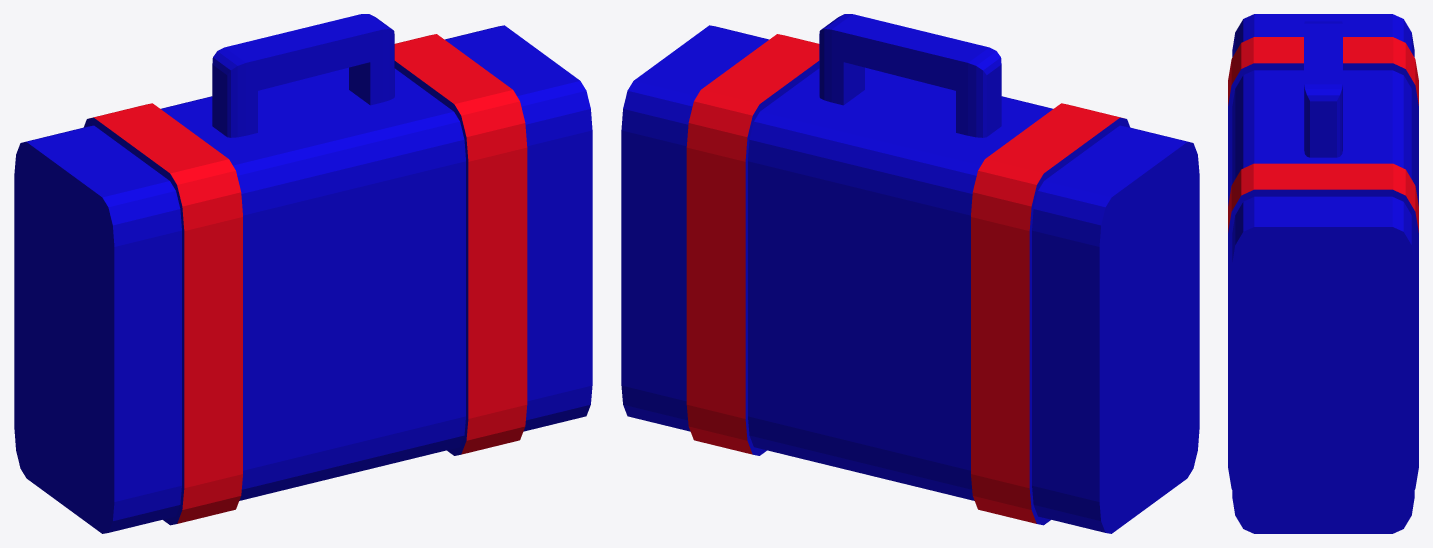
Rendered from valija.fbx.
3 renders of one model, left to right at view 1: azimuth 30°, elevation 25°; view 2: azimuth 150°, elevation 25°; view 3: azimuth 270°, elevation 25°, orthographic. The views are drawn at different scales.
Visible parts, largest first — view 1: Cube; view 2: Cube; view 3: Cube.
Boxes of the visible parts, left/top/right/bottom form: Cube: left=14, top=14, right=592, bottom=533; Cube: left=621, top=14, right=1199, bottom=533; Cube: left=1228, top=14, right=1418, bottom=533.
Bounding box in the file's own units: 459 × 382 × 174.
